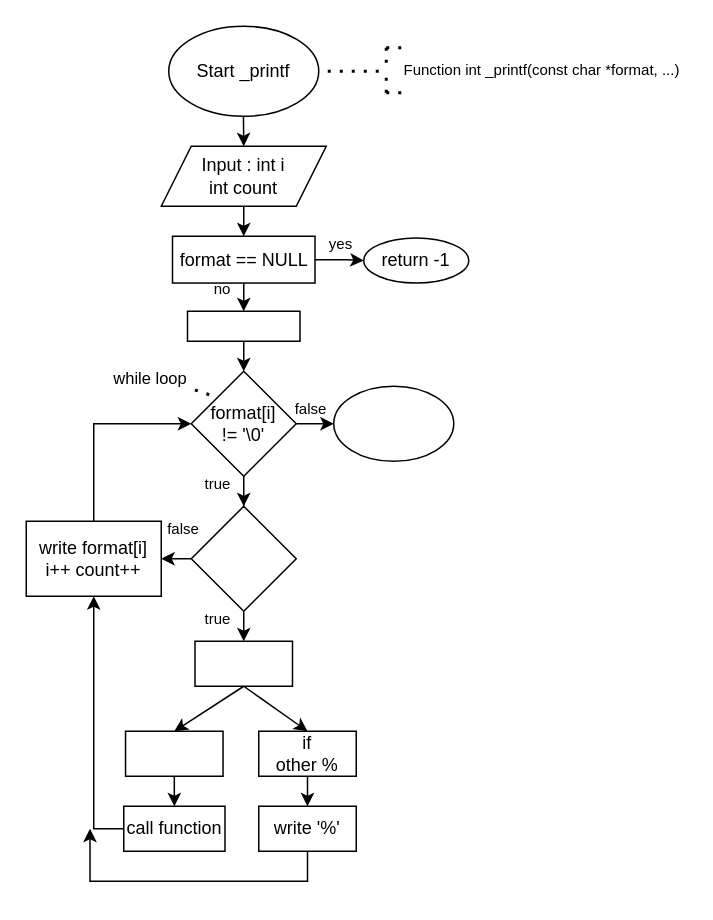
The diagram is 713 pixels wide and 920 high, and some of its shapes have lost their labels. The shapes that lost their labels are listed below. From the top down, each one's box as (x1, y1, x2, y2) in pixels, then its label:
(186, 310, 300, 341): va_start
(332, 385, 454, 461): End return count
(190, 505, 296, 611): check for '%'
(194, 640, 292, 686): i++
(124, 730, 223, 776): if character
